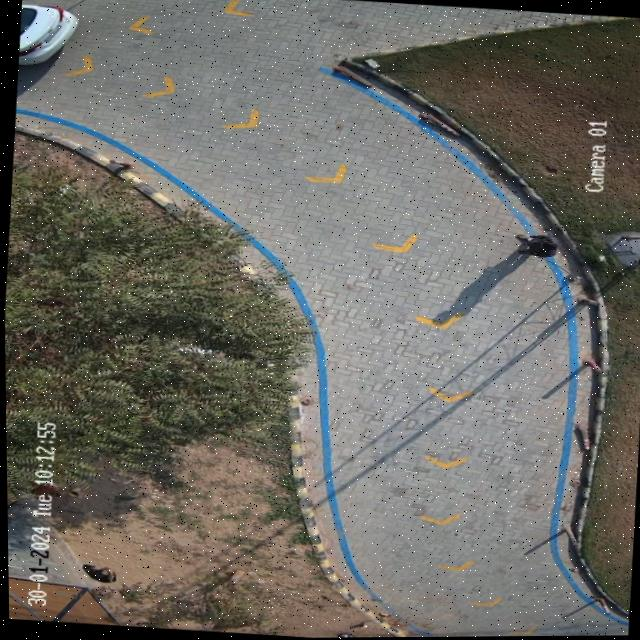car: (18, 0, 79, 65)
